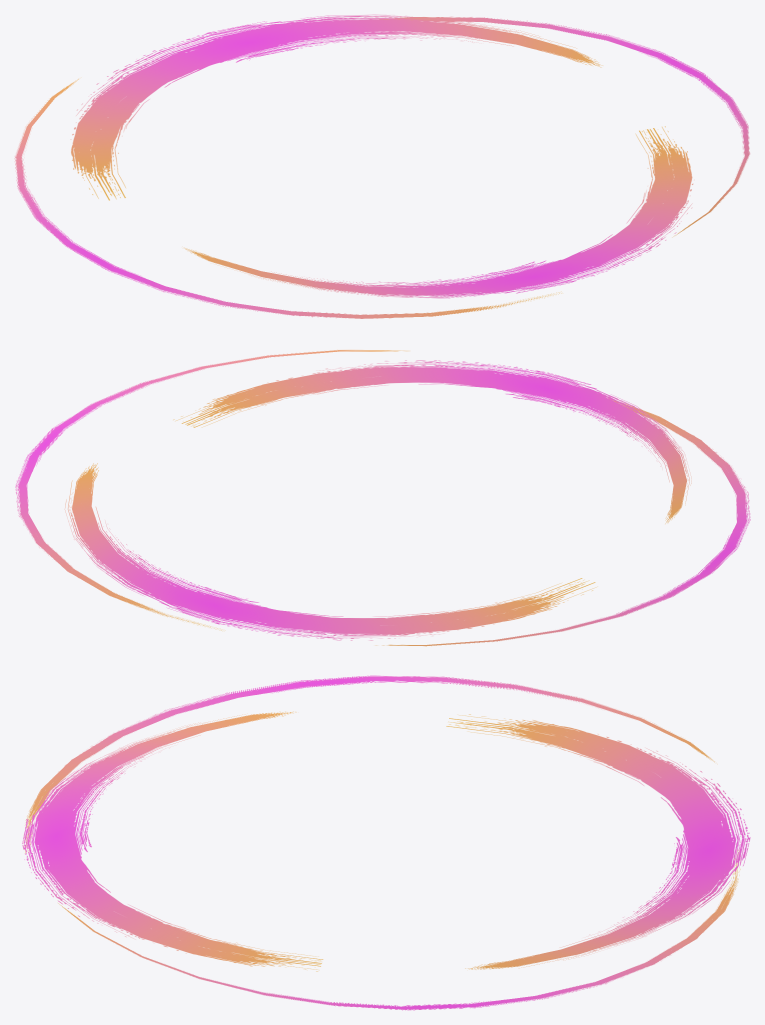
The model's file is Circular.glb.
3 renders of one model, top to bottom at view 1: azimuth 30°, elevation 25°; view 2: azimuth 150°, elevation 25°; view 3: azimuth 270°, elevation 25°, orthographic. The views are drawn at different scales.
Parts seen in each view (by area): view 1: Plane; view 2: Plane; view 3: Plane.
Part boxes in pixels (left/top/right/bottom): Plane: left=14, top=14, right=750, bottom=318; Plane: left=15, top=350, right=750, bottom=646; Plane: left=22, top=675, right=750, bottom=1010.
Bounding box in the file's own units: 1.17 × 0.0269 × 1.08.
Materials: 1 (1 with a texture image).
